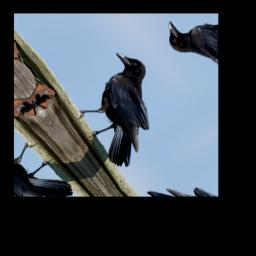Crow: (53, 46, 194, 172)
